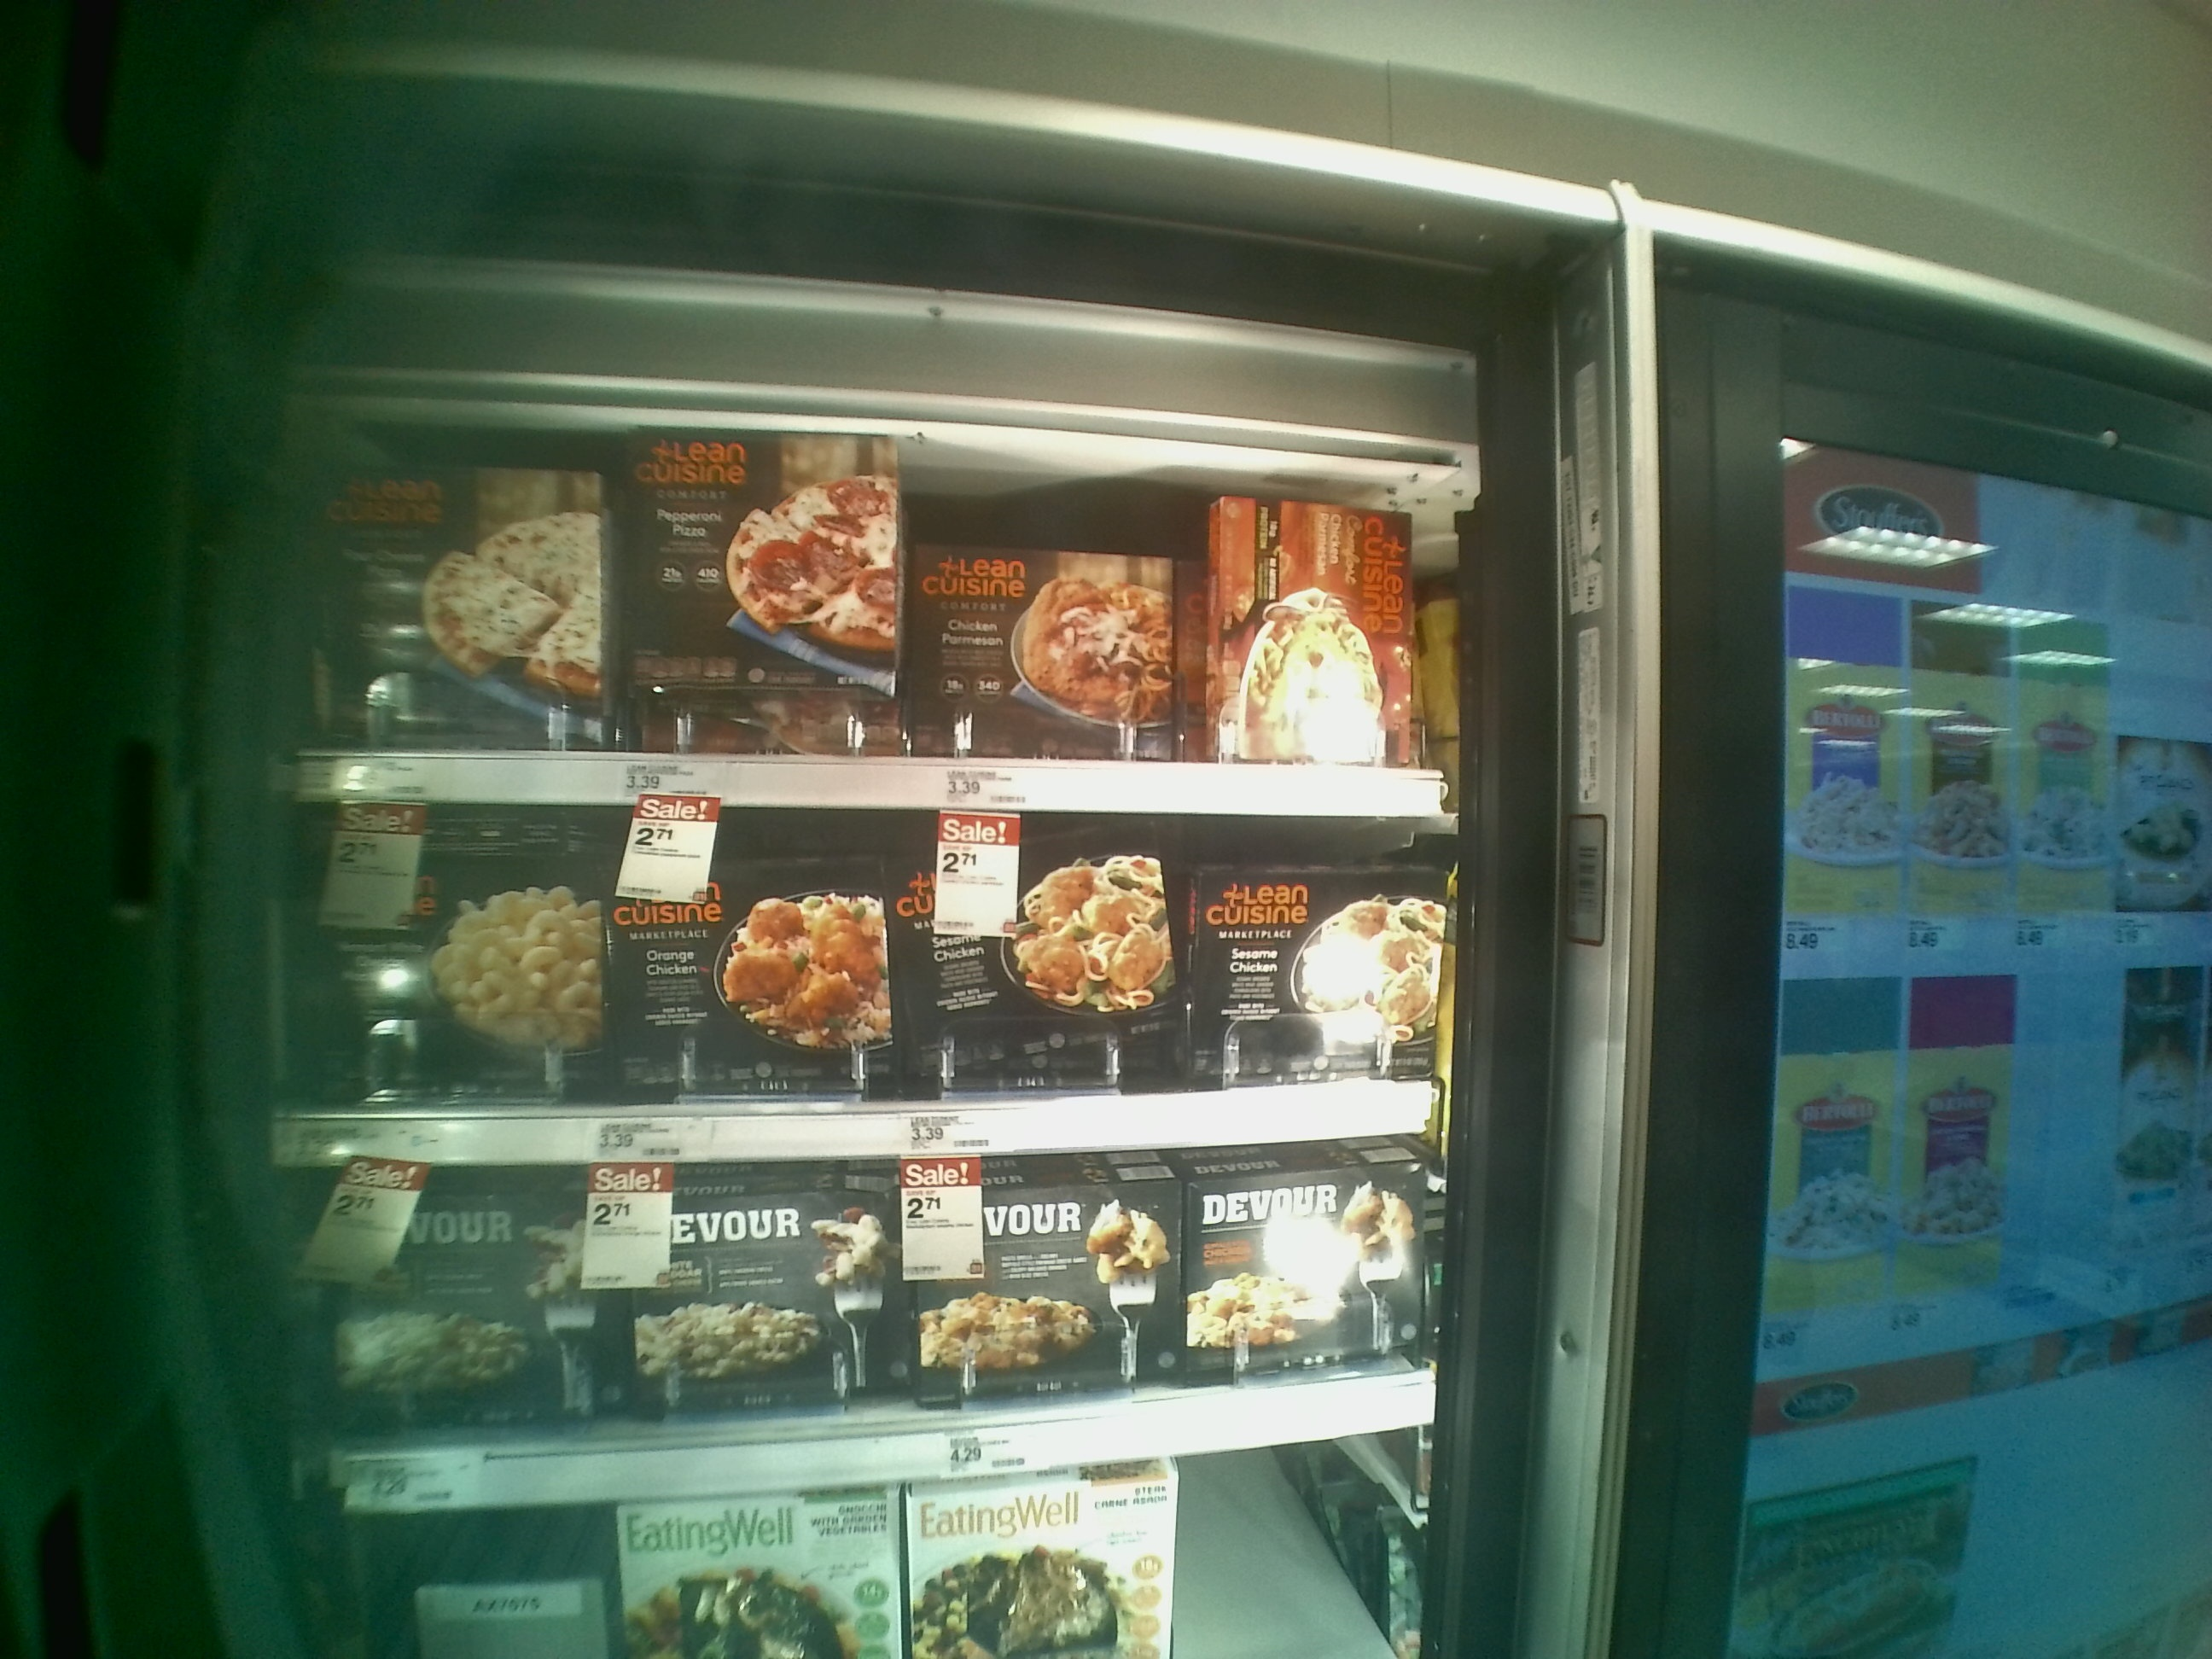frozen-food-shelf: (294, 1134, 1444, 1514), (294, 784, 1446, 1143)
